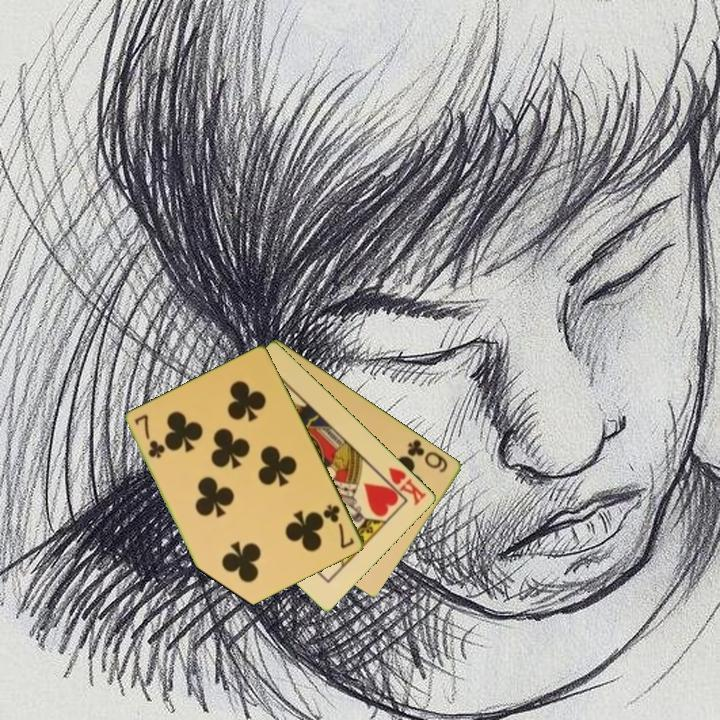6c: (404, 436, 451, 476)
7c: (320, 501, 358, 552), (131, 411, 167, 461)
Kh: (377, 463, 430, 508)
